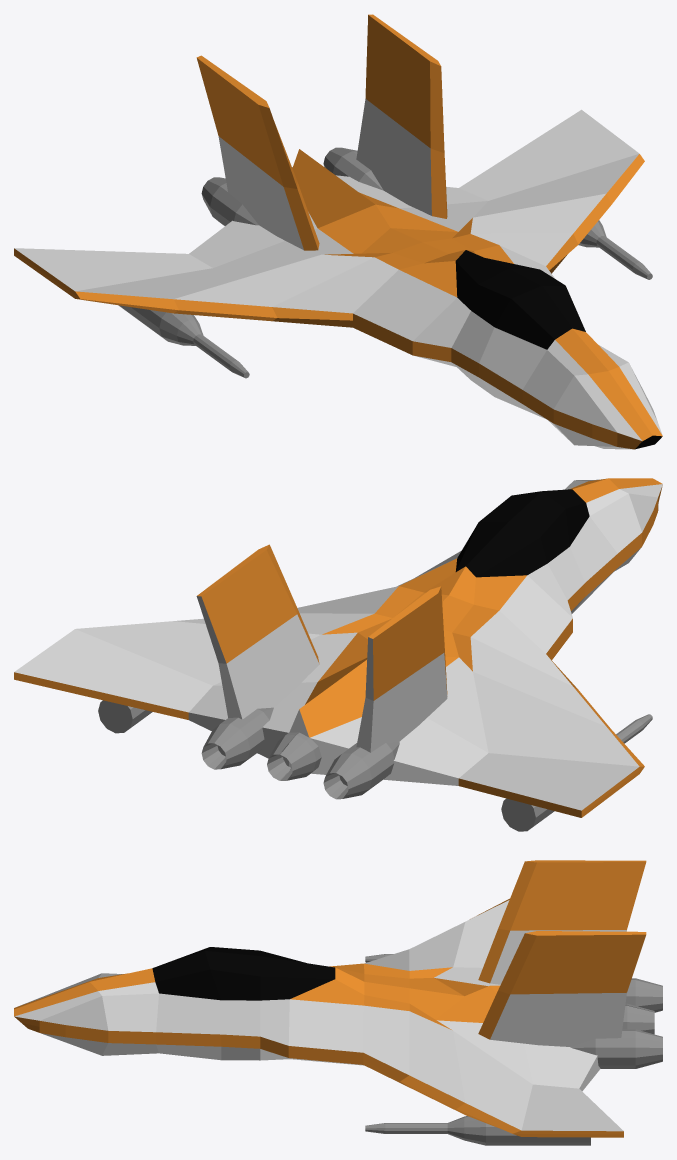
The model's file is Nave00.fbx.
3 views of the same model, one above another, from view 1: azimuth 30°, elevation 25°; view 2: azimuth 150°, elevation 25°; view 3: azimuth 270°, elevation 25° (orthographic). The views are drawn at different scales.
Parts seen in each view (by area): view 1: Cube; view 2: Cube; view 3: Cube.
Part boxes in pixels (<box>): Cube: <box>14,14,662,449</box>; Cube: <box>14,478,662,831</box>; Cube: <box>14,860,662,1145</box>.
Size of the model in its own units: 279 by 89.21 by 322.
